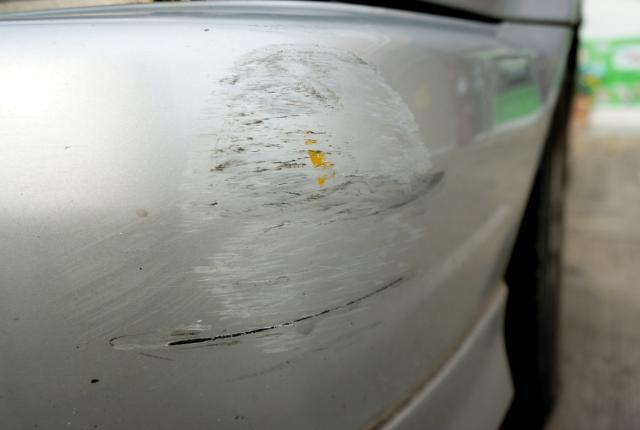scratch: (58, 42, 446, 368)
